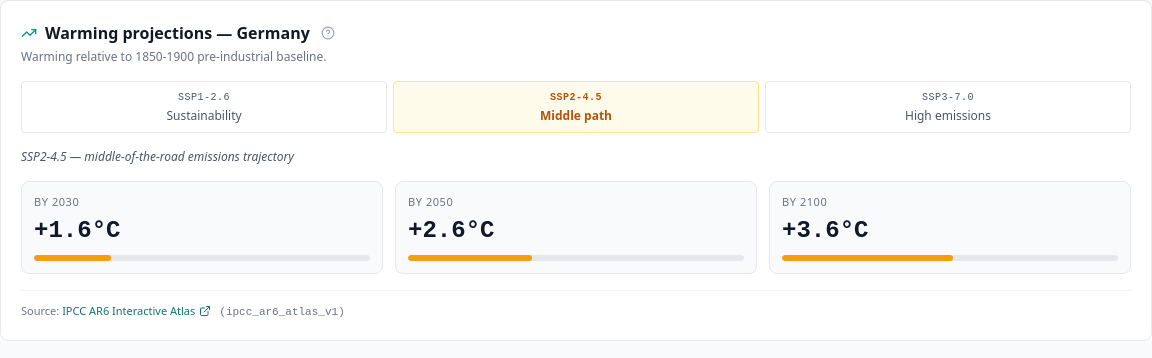
Test: ProjectionsPanel — Phase 8 MH4 › clicking a scenario tab swaps the displayed horizons
Expected: the element with test id "projections-scenario-tabs" is shown, x1=21 y1=81 x2=1131 y2=133
Click the high-emissions scenario
What coordinates should you click on to do the following:
click the tab with test id "projections-scenario-SSP3-7.0"
I would click on:
 (948, 107)
Its box is x1=765 y1=81 x2=1131 y2=133.
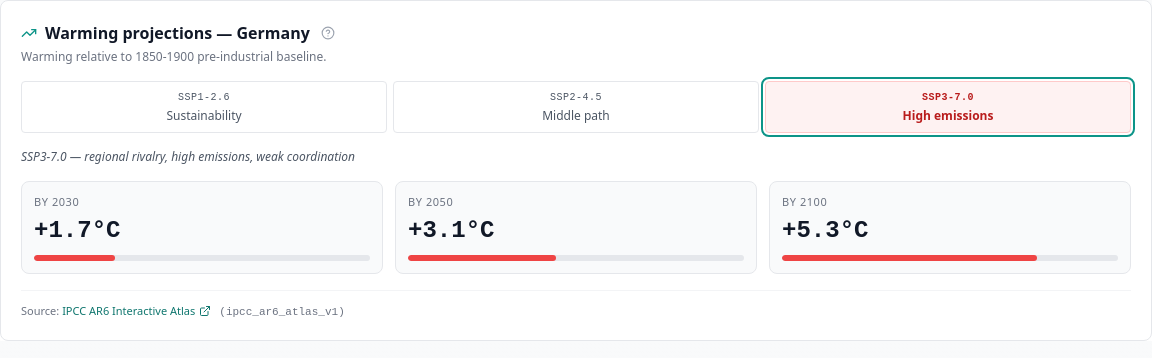
Now the element with test id "projections-horizon-2100" shows "+5.3°C", box x1=769 y1=181 x2=1131 y2=274
